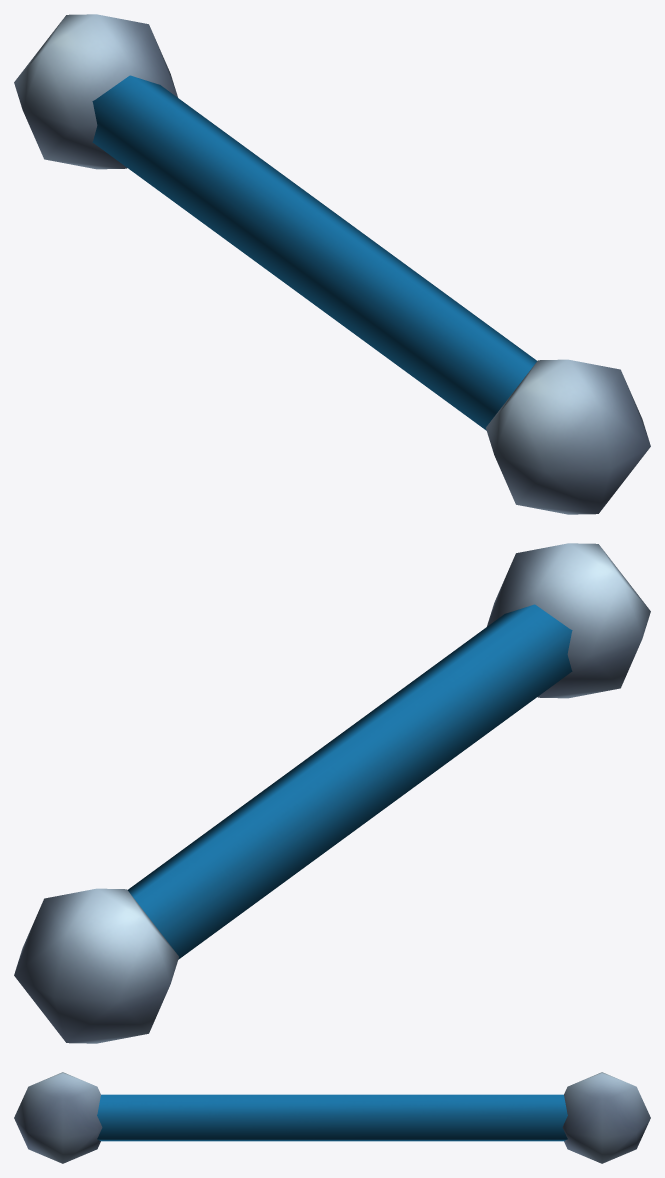
The model's file is pagan01.FBX.
3 views of the same model, one above another, from view 1: azimuth 30°, elevation 25°; view 2: azimuth 150°, elevation 25°; view 3: azimuth 270°, elevation 25° (orthographic). The views are drawn at different scales.
Visible parts, largest first — view 1: Object01; view 2: Object01; view 3: Object01.
Part boxes in pixels (x1,y1,x2,y2): Object01: (14, 14, 650, 514); Object01: (14, 543, 650, 1043); Object01: (14, 1072, 650, 1163).
Size of the model in its own units: 1.58 by 1.58 by 10.27.
